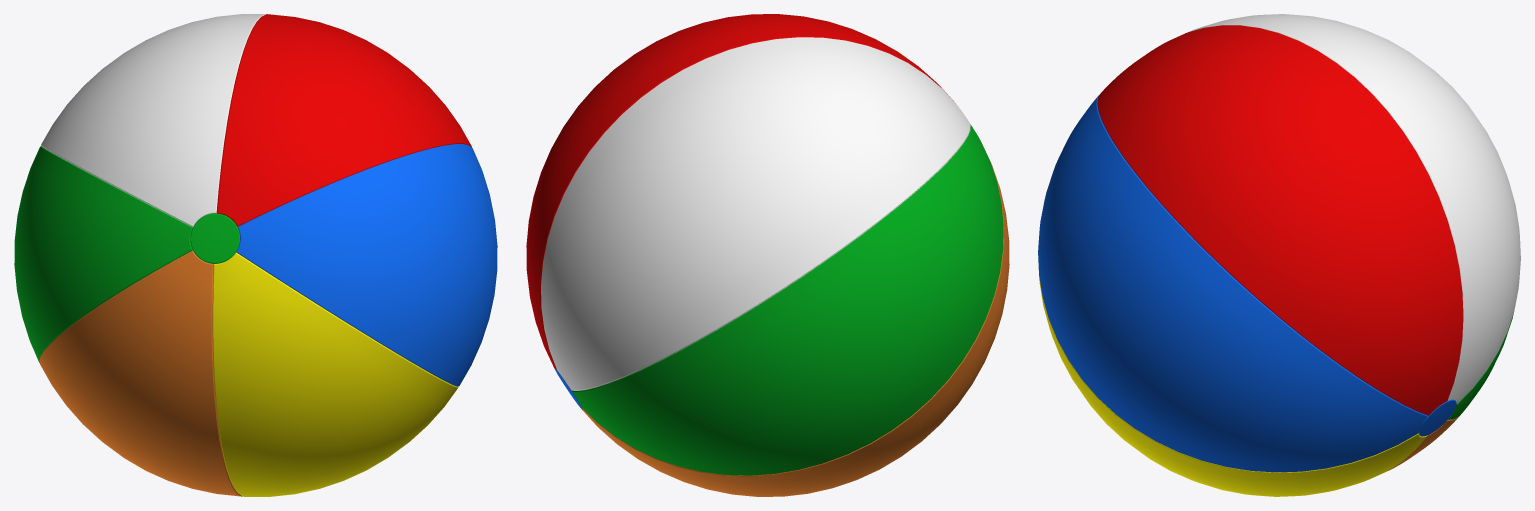
The model's file is Beach_Ball.fbx.
3 renders of one model, left to right at view 1: azimuth 30°, elevation 25°; view 2: azimuth 150°, elevation 25°; view 3: azimuth 270°, elevation 25°, orthographic.
Parts seen in each view (by area): view 1: BeachBall; view 2: BeachBall; view 3: BeachBall.
Part boxes in pixels (x1,y1,x2,y2): BeachBall: (14,14,497,496); BeachBall: (526,14,1009,496); BeachBall: (1038,14,1520,496).
Size of the model in its own units: 0.5259 by 0.526 by 0.5263.
